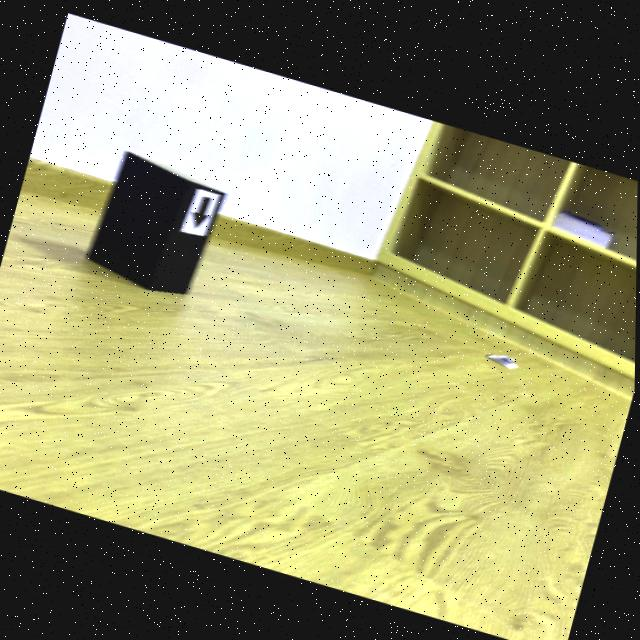DOWN: (191, 194, 211, 225)
